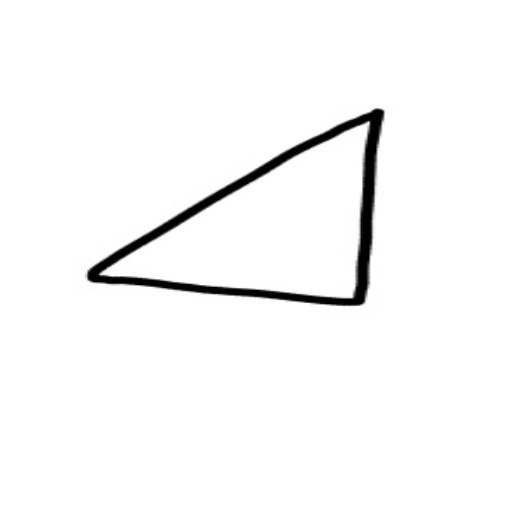triangle: (74, 101, 392, 318)
